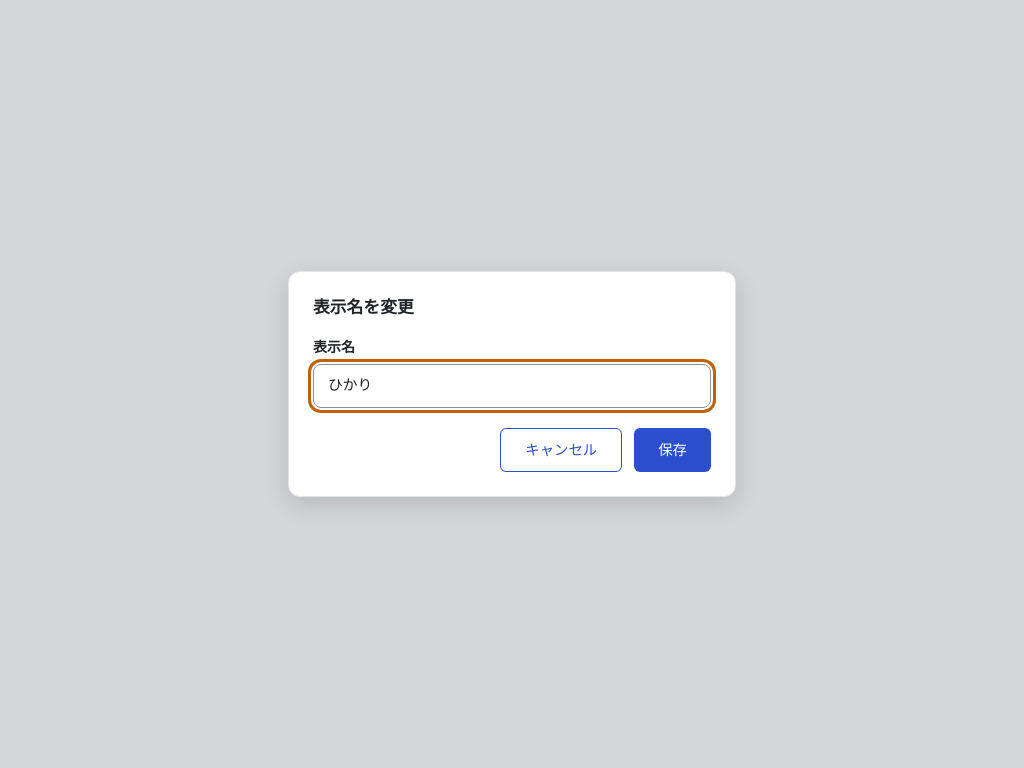
it: DisplayNameDialog › 失敗したら、閉じずに、固定の文と入力した値を残す
Click the button "保存" at (673, 450), box [634,428,711,472]
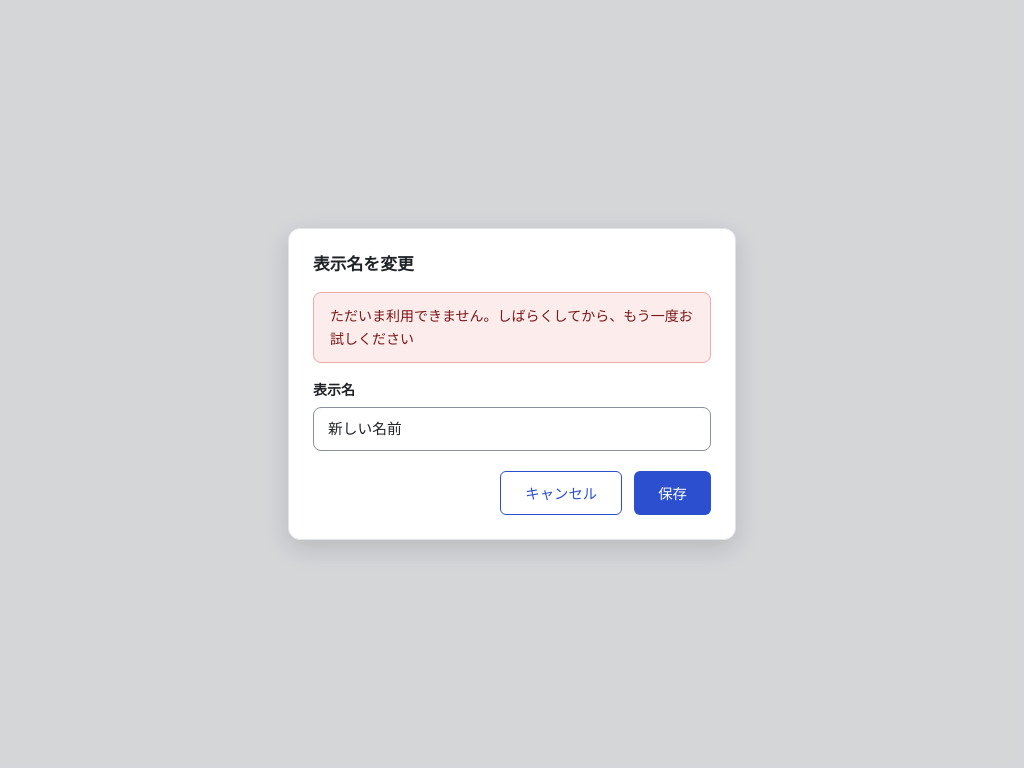
Now the message shows "ただいま利用できません", box [330,307,693,347]
Now the field labelled "表示名" holds "新しい名前", box [313,407,711,451]
